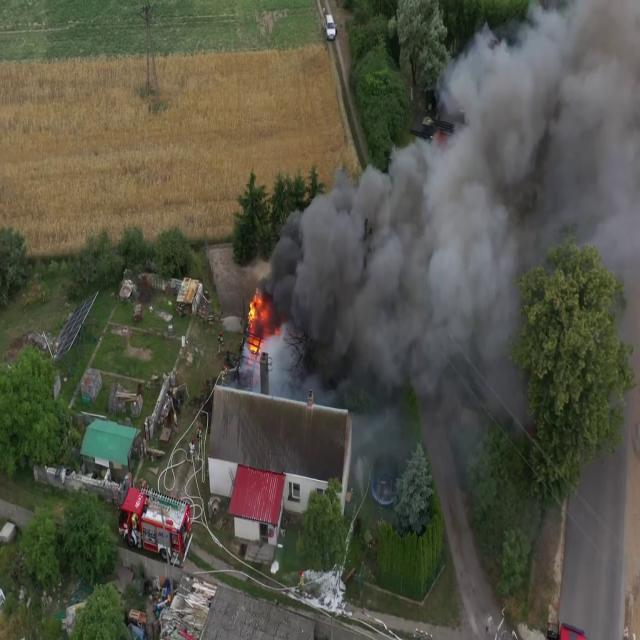Fire: (243, 287, 273, 357)
Smoke: (273, 2, 640, 412)
